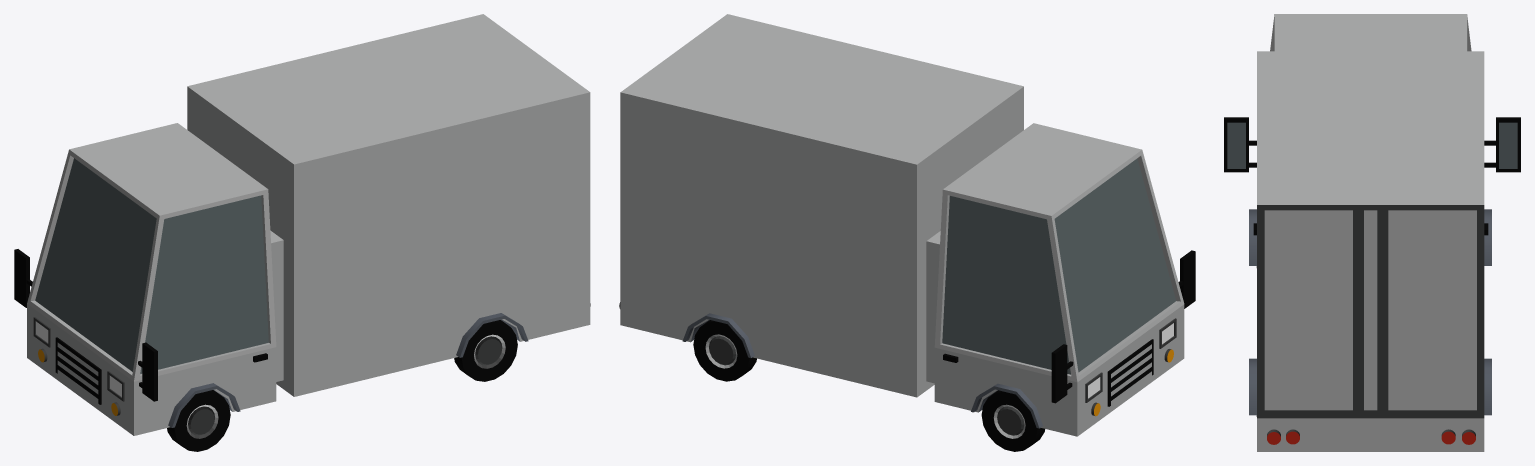
Rendered from car6A.FBX.
The picture shows the model from 3 angles, left to right: view 1: azimuth 30°, elevation 25°; view 2: azimuth 150°, elevation 25°; view 3: azimuth 270°, elevation 25°; orthographic projection. The views are drawn at different scales.
Visible parts, largest first — view 1: car6A; view 2: car6A; view 3: car6A.
Part boxes in pixels (box(x1,y1,x2,y2)): car6A: box(14, 14, 590, 451); car6A: box(619, 14, 1195, 451); car6A: box(1224, 14, 1520, 451).
Size of the model in its own units: 12.53 by 6.81 by 6.53.
